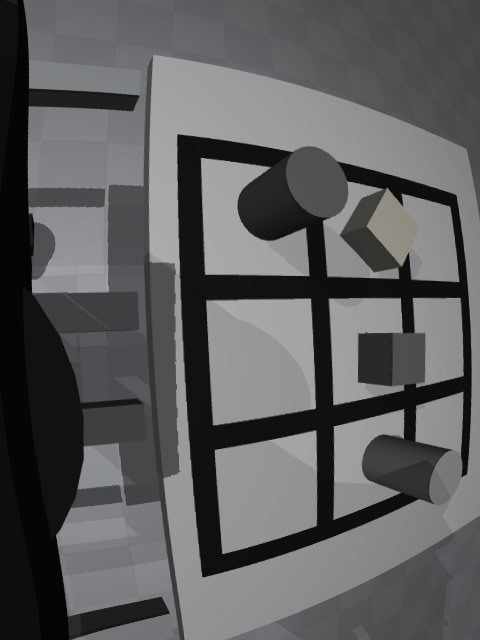can: (362, 435, 463, 505)
cube: (358, 333, 426, 387)
cylinder: (237, 146, 349, 241)
foam: (340, 188, 419, 273)
